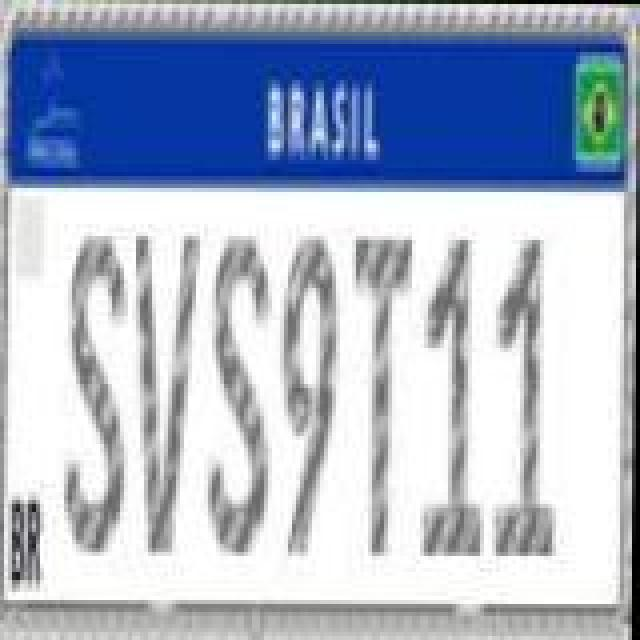1: (492, 228, 564, 564), (420, 228, 492, 560)
9: (280, 228, 344, 560)
S: (64, 226, 136, 558), (208, 228, 280, 560)
T: (350, 228, 418, 560)
V: (132, 230, 204, 558)
